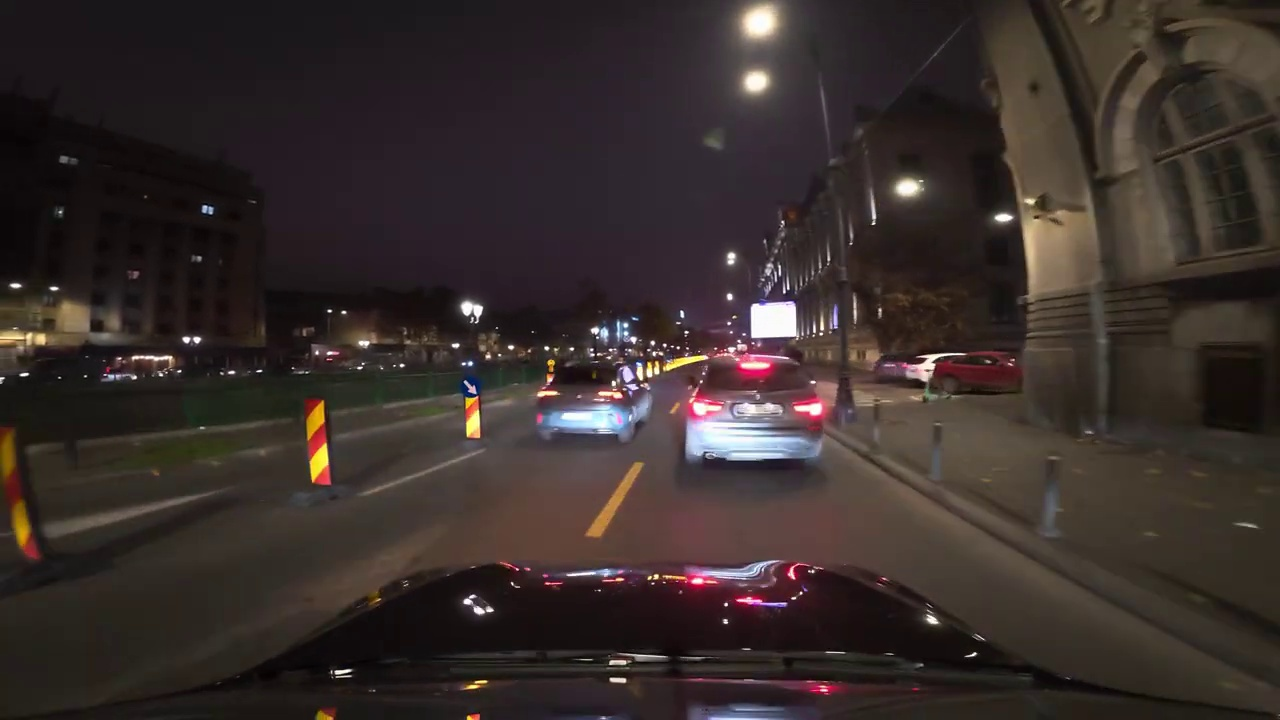acesa: (739, 6, 779, 41), (739, 69, 771, 97), (892, 176, 925, 203), (701, 129, 724, 152), (722, 248, 741, 270)
